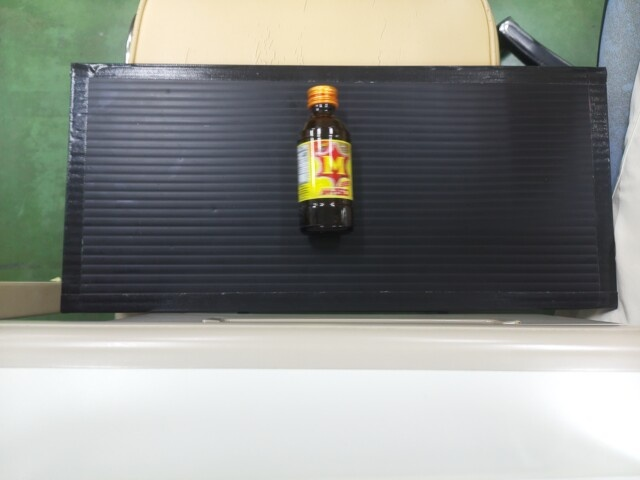glass_bottle: (289, 86, 356, 233)
